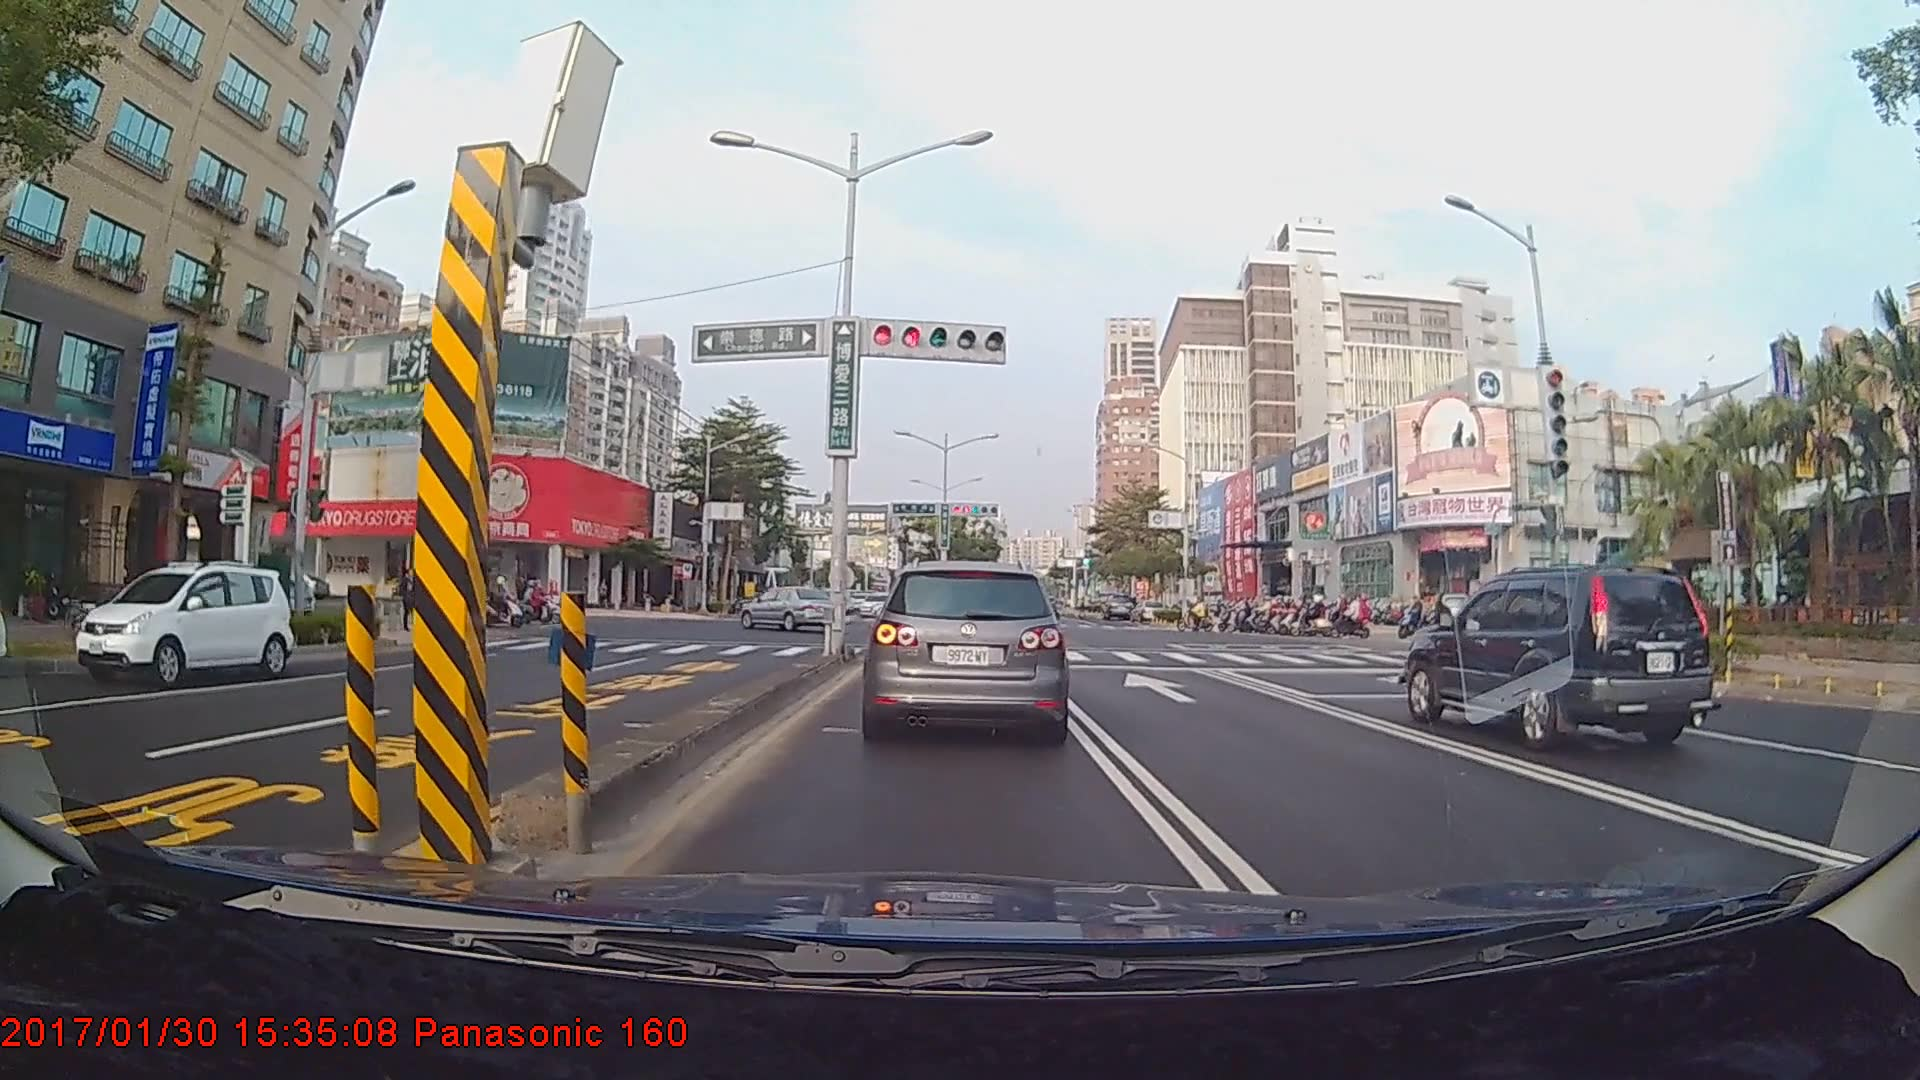pedestrian: (398, 566, 421, 636)
vehicle: (1399, 569, 1718, 756), (864, 555, 1070, 741), (72, 564, 293, 683), (736, 583, 850, 632), (1101, 592, 1136, 622)
